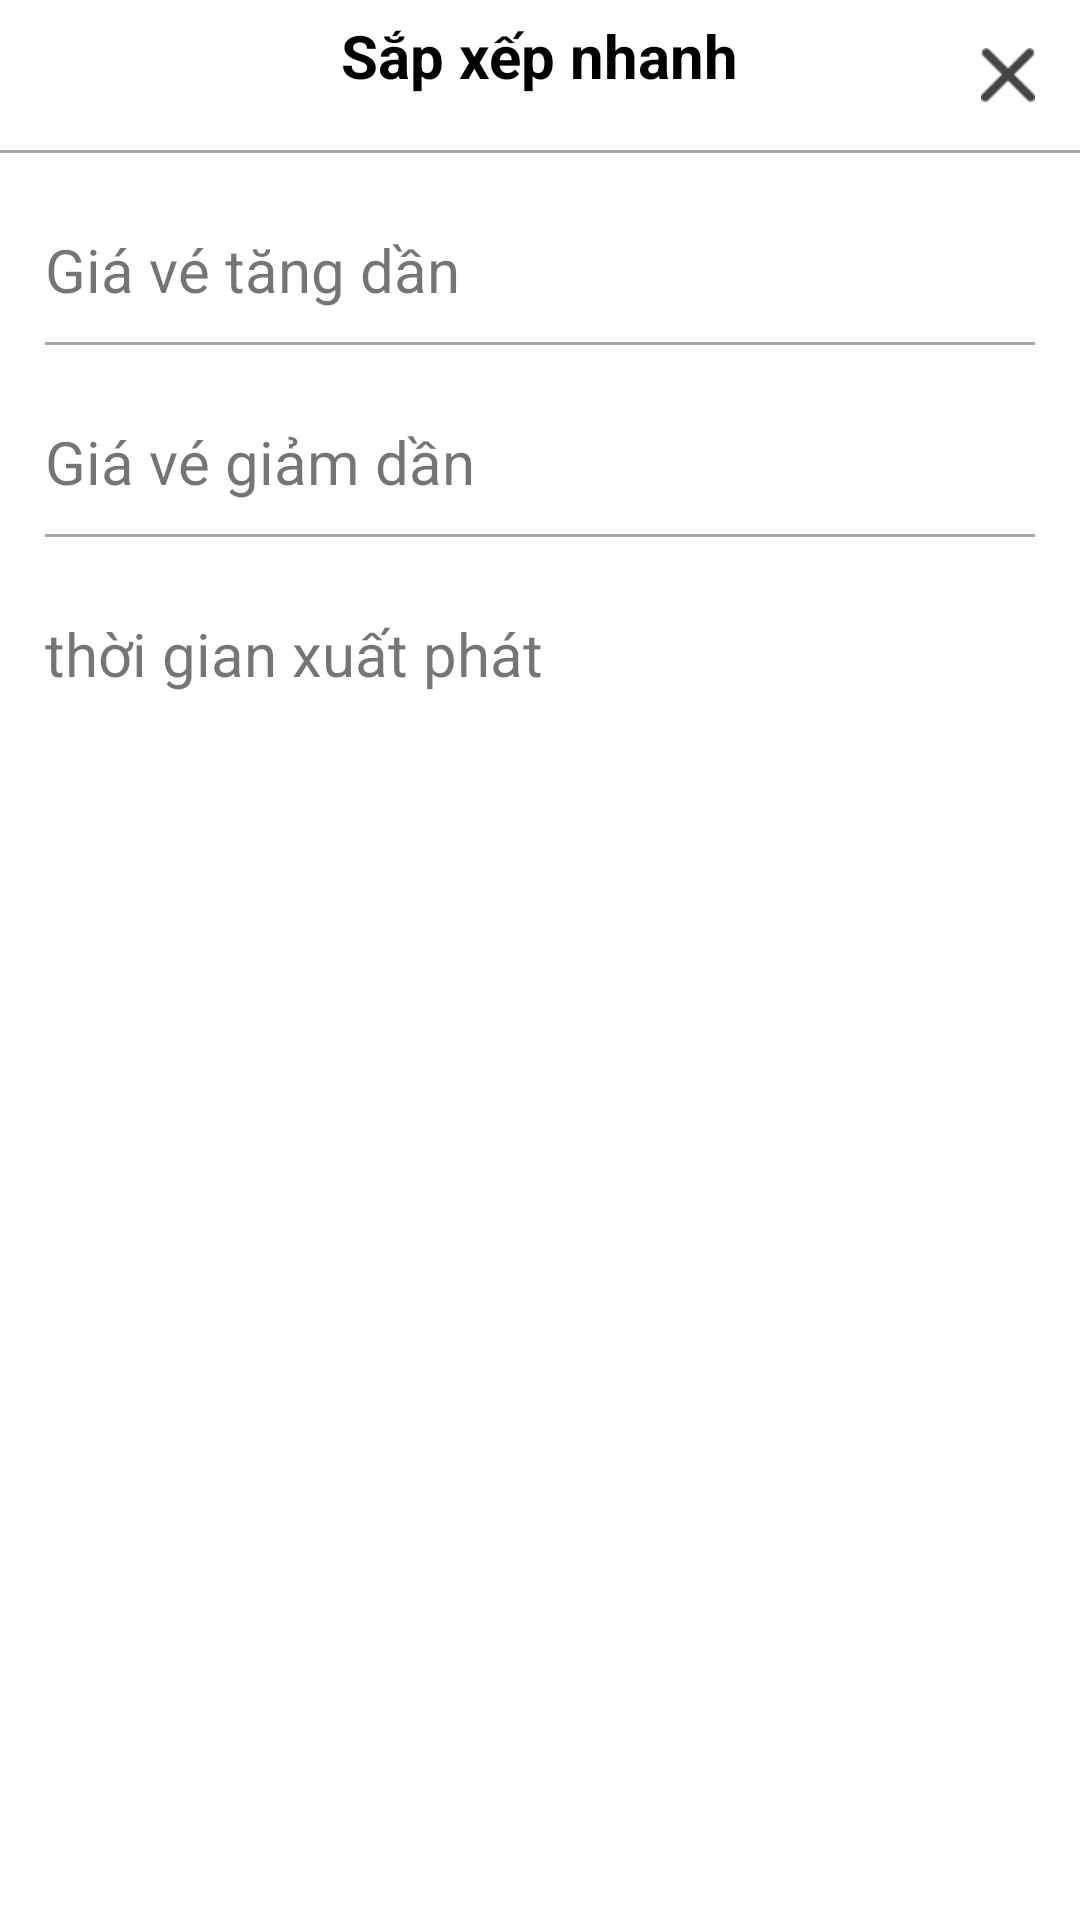

Named icons in this screenshot (1080 × 1920) and their bounding boxes, (x1, y1, x2, y2):
multiply: (981, 48, 1035, 102)
